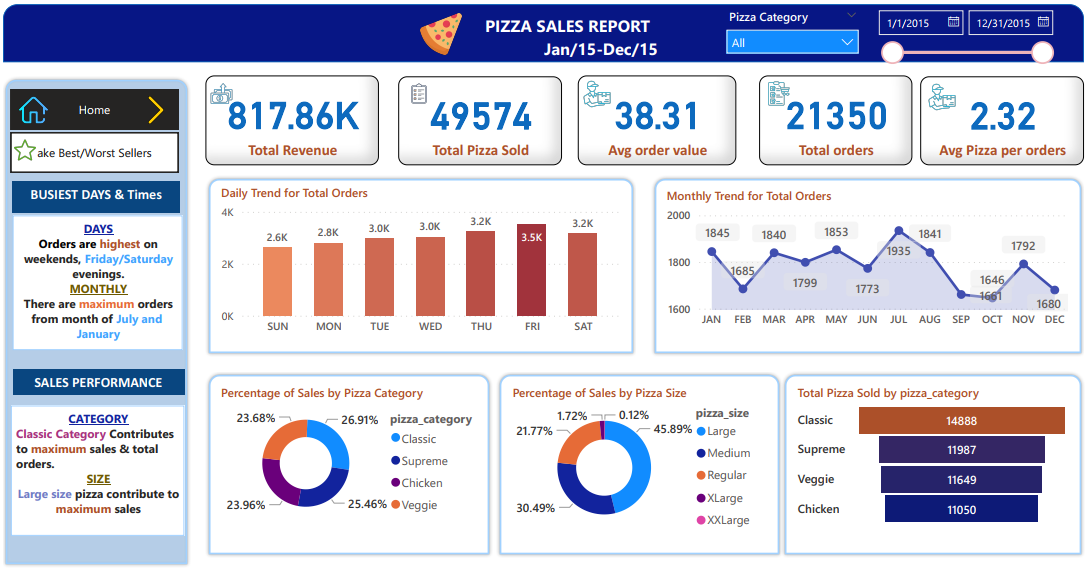

The dashboard page shown, as its layout file describes it:
{"tool":"powerbi","page":{"name":"Home","canvas":[1280,720],"ordinal":0},"visuals":[{"type":"shape","box":[1.2,140,212.5,557.5],"z":0},{"type":"textbox","box":[11.8,259.4,190.3,35.4],"z":1000},{"type":"card","fields":{"Values":["pizza_sales_excel_file.Total Revenue"]},"box":[231.2,139,196.8,101.8],"z":2000},{"type":"card","fields":{"Values":["pizza_sales_excel_file.Total Pizza Sold"]},"box":[450.1,140.4,185.8,100.5],"z":3000},{"type":"card","fields":{"Values":["pizza_sales_excel_file.Total orders"]},"box":[860.2,139,173.4,101.8],"z":4000},{"type":"card","fields":{"Values":["pizza_sales_excel_file.Avg Pizza per orders"]},"box":[1043.3,140.4,185.8,100.5],"z":5000},{"type":"card","fields":{"Values":["pizza_sales_excel_file.Avg order value"]},"box":[653.8,139,180.3,101.8],"z":6000},{"type":"shape","box":[1.2,57.5,1227.5,66.2],"z":7000},{"type":"textbox","box":[487.2,64.7,311.1,48.2],"z":8000},{"type":"textbox","box":[602.8,90.8,155.5,38.5],"z":9000},{"type":"image","box":[459.7,61.9,77.1,59.2],"z":10000},{"type":"shape","box":[231.2,253.2,488.6,205.1],"z":11000},{"type":"columnChart","title":"Daily Trend for Total Orders","fields":{"Category":["pizza_sales_excel_file.Order day"],"Y":["pizza_sales_excel_file.Total orders"]},"box":[243.6,262.9,462.5,178.9],"z":12000},{"type":"shape","box":[737.7,253.2,491.4,205.1],"z":13000},{"type":"areaChart","title":"Monthly Trend for Total Orders","fields":{"Category":["pizza_sales_excel_file.Order Month"],"Y":["pizza_sales_excel_file.Total orders"]},"box":[750.1,267,465.2,166.5],"z":14000},{"type":"shape","box":[231.2,476.2,326.2,210.6],"z":15000},{"type":"shape","box":[561.5,476.2,324.8,210.6],"z":16000},{"type":"shape","box":[886.4,474.8,344.1,212],"z":17000},{"type":"donutChart","title":"Percentage of Sales by Pizza Category","fields":{"Category":["pizza_sales_excel_file.pizza_category"],"Y":["pizza_sales_excel_file.Total Revenue"]},"box":[243.6,490,302.8,162.4],"z":18000},{"type":"donutChart","title":"Percentage of Sales by Pizza Size","fields":{"Y":["pizza_sales_excel_file.Total Revenue"],"Category":["pizza_sales_excel_file.pizza_size"]},"box":[575.3,490,297.3,172],"z":19000},{"type":"funnel","fields":{"Category":["pizza_sales_excel_file.pizza_category"],"Y":["pizza_sales_excel_file.Total Pizza Sold"]},"box":[898.8,490,317.9,165.2],"z":20000},{"type":"textbox","box":[11.8,298.1,193.7,153.3],"z":21000},{"type":"textbox","box":[11.8,473.3,195.4,28.6],"z":22000},{"type":"textbox","box":[10.1,513.7,197.1,148.2],"z":23000},{"type":"slicer","fields":{"Values":["pizza_sales_excel_file.pizza_category"]},"box":[813.4,57.8,169.3,60.6],"z":24000},{"type":"slicer","fields":{"Values":["pizza_sales_excel_file.order_date"]},"box":[982.7,55.1,220.2,78.5],"z":25000},{"type":"pageNavigator","box":[10.1,154.9,190.3,45.5],"z":26000},{"type":"pageNavigator","box":[10.1,203.8,190.3,45.5],"z":27000},{"type":"image","box":[148.2,158.3,52.2,40.4],"z":28000},{"type":"image","box":[0,207.2,52.2,33.7],"z":29000},{"type":"image","box":[11.8,158.3,47.2,40.4],"z":30000},{"type":"image","box":[230.7,134.7,37.1,48.8],"z":31000},{"type":"image","box":[451.2,142.5,43.8,33.8],"z":32000},{"type":"image","box":[634.9,139.8,82.5,40.4],"z":33000},{"type":"image","box":[864,128,37.1,62.3],"z":34000},{"type":"image","box":[1025.7,143.2,82.5,40.4],"z":35000}]}

Visuals, with their boxes on the page's 1280x720 design canvas (x1, y1, x2, y2). These are canvas units, not pixel positions in the 1090x574 screenshot, which may show the page scaled, cropped or inside an application window:
shape: x1=1, y1=140, x2=214, y2=698
textbox: x1=12, y1=259, x2=202, y2=295
card - pizza_sales_excel_file.Total Revenue: x1=231, y1=139, x2=428, y2=241
card - pizza_sales_excel_file.Total Pizza Sold: x1=450, y1=140, x2=636, y2=241
card - pizza_sales_excel_file.Total orders: x1=860, y1=139, x2=1034, y2=241
card - pizza_sales_excel_file.Avg Pizza per orders: x1=1043, y1=140, x2=1229, y2=241
card - pizza_sales_excel_file.Avg order value: x1=654, y1=139, x2=834, y2=241
shape: x1=1, y1=58, x2=1229, y2=124
textbox: x1=487, y1=65, x2=798, y2=113
textbox: x1=603, y1=91, x2=758, y2=129
image: x1=460, y1=62, x2=537, y2=121
shape: x1=231, y1=253, x2=720, y2=458
"Daily Trend for Total Orders" columnChart: x1=244, y1=263, x2=706, y2=442
shape: x1=738, y1=253, x2=1229, y2=458
"Monthly Trend for Total Orders" areaChart: x1=750, y1=267, x2=1215, y2=434
shape: x1=231, y1=476, x2=557, y2=687
shape: x1=562, y1=476, x2=886, y2=687
shape: x1=886, y1=475, x2=1230, y2=687
"Percentage of Sales by Pizza Category" donutChart: x1=244, y1=490, x2=546, y2=652
"Percentage of Sales by Pizza Size" donutChart: x1=575, y1=490, x2=873, y2=662
funnel - pizza_sales_excel_file.pizza_category x pizza_sales_excel_file.Total Pizza Sold: x1=899, y1=490, x2=1217, y2=655
textbox: x1=12, y1=298, x2=206, y2=451
textbox: x1=12, y1=473, x2=207, y2=502
textbox: x1=10, y1=514, x2=207, y2=662
slicer - pizza_sales_excel_file.pizza_category: x1=813, y1=58, x2=983, y2=118
slicer - pizza_sales_excel_file.order_date: x1=983, y1=55, x2=1203, y2=134
pageNavigator: x1=10, y1=155, x2=200, y2=200
pageNavigator: x1=10, y1=204, x2=200, y2=249
image: x1=148, y1=158, x2=200, y2=199
image: x1=0, y1=207, x2=52, y2=241
image: x1=12, y1=158, x2=59, y2=199
image: x1=231, y1=135, x2=268, y2=184
image: x1=451, y1=142, x2=495, y2=176
image: x1=635, y1=140, x2=717, y2=180
image: x1=864, y1=128, x2=901, y2=190
image: x1=1026, y1=143, x2=1108, y2=184
